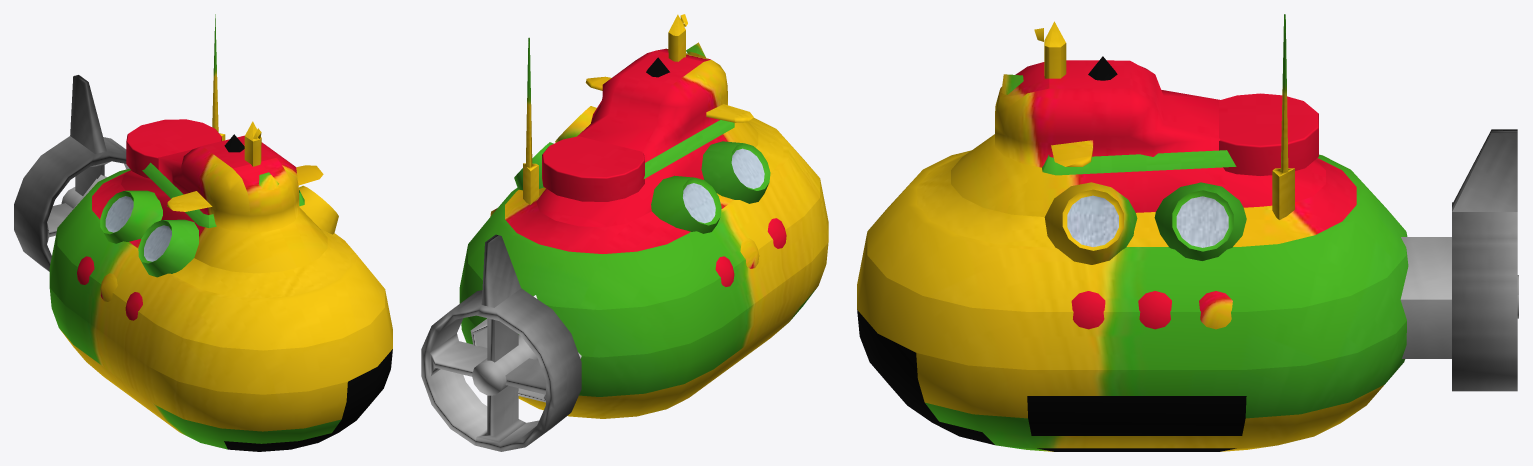
File: Submarino1.obj
The picture shows the model from 3 angles, left to right: view 1: azimuth 30°, elevation 25°; view 2: azimuth 150°, elevation 25°; view 3: azimuth 270°, elevation 25°; orthographic projection. The views are drawn at different scales.
Visible parts, largest first — view 1: Submarino1:Submarine; view 2: Submarino1:Submarine; view 3: Submarino1:Submarine.
Boxes of the visible parts, box(x1,y1,x2,y2) form: Submarino1:Submarine: box(14, 14, 392, 451); Submarino1:Submarine: box(421, 14, 828, 451); Submarino1:Submarine: box(857, 14, 1518, 451).
Size of the model in its own units: 9.48 by 13.17 by 18.16.
4 materials, 3 textured.
